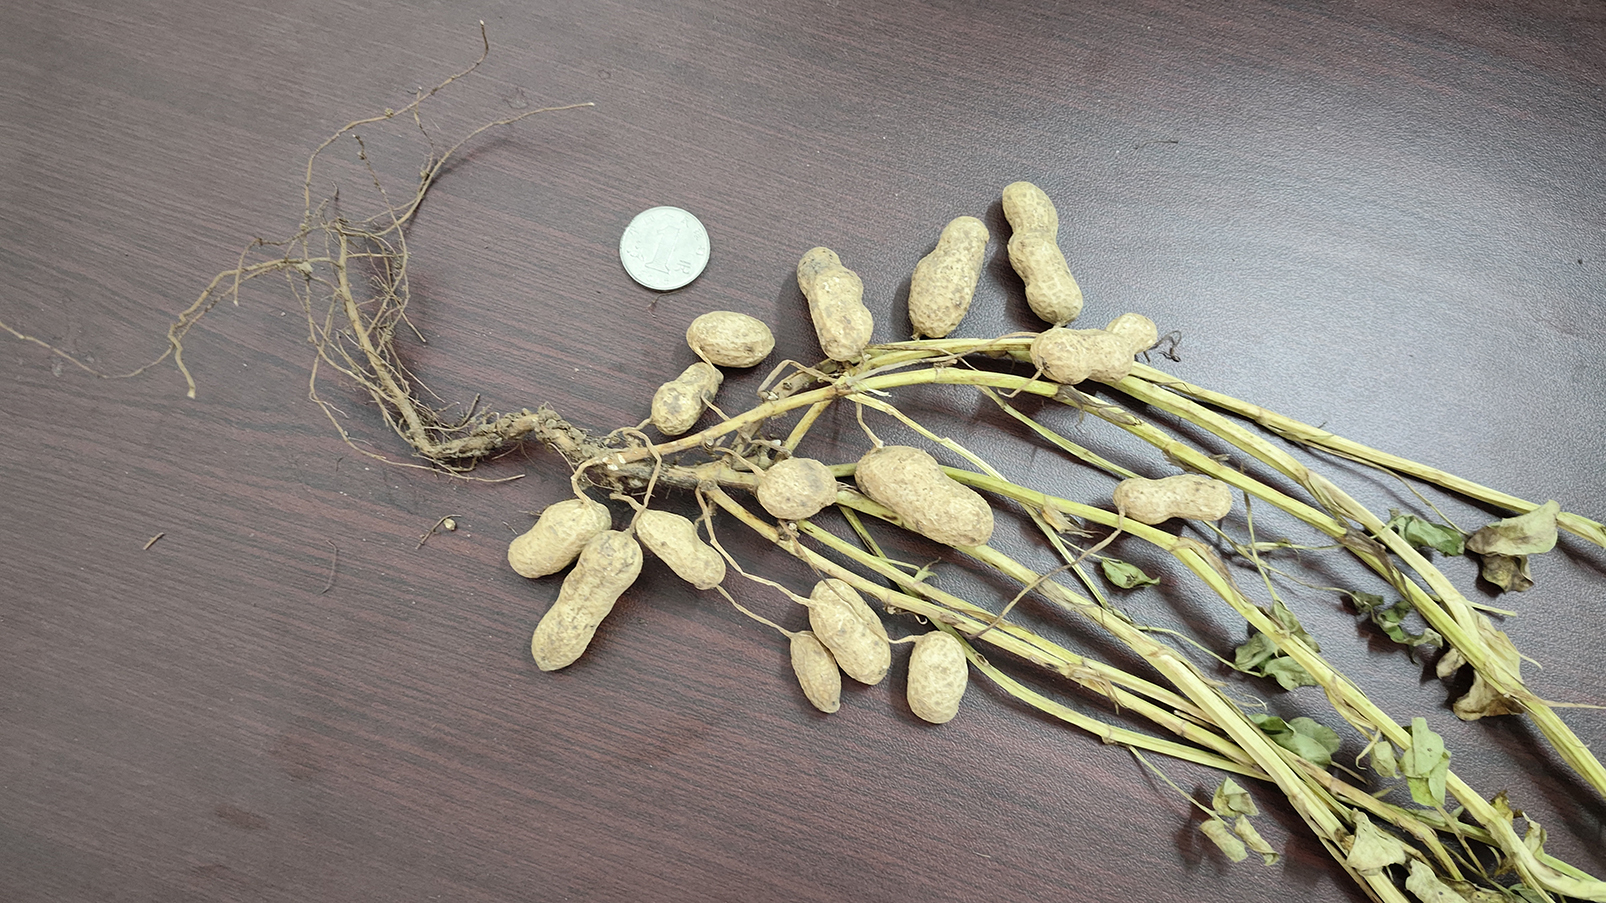h: (532, 527, 644, 670), (854, 442, 994, 548), (1003, 181, 1085, 322), (907, 213, 991, 336), (806, 578, 891, 685), (795, 245, 872, 362), (1034, 311, 1160, 381), (508, 497, 613, 580), (638, 508, 724, 590), (1111, 475, 1234, 524), (904, 631, 968, 722), (685, 308, 777, 369), (652, 363, 724, 436), (758, 455, 837, 517), (789, 628, 843, 712)
